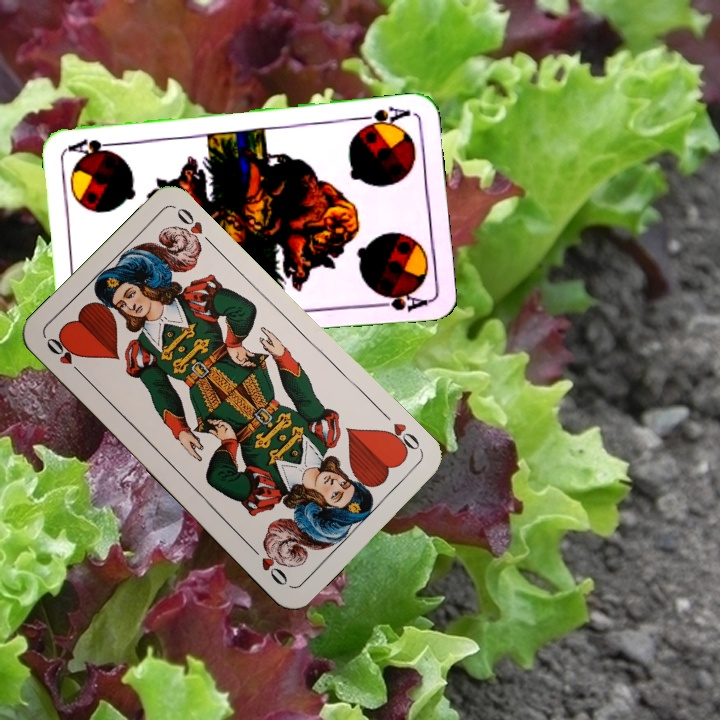HO: (42, 333, 88, 380), (378, 419, 426, 459)
SA: (354, 103, 413, 132)
